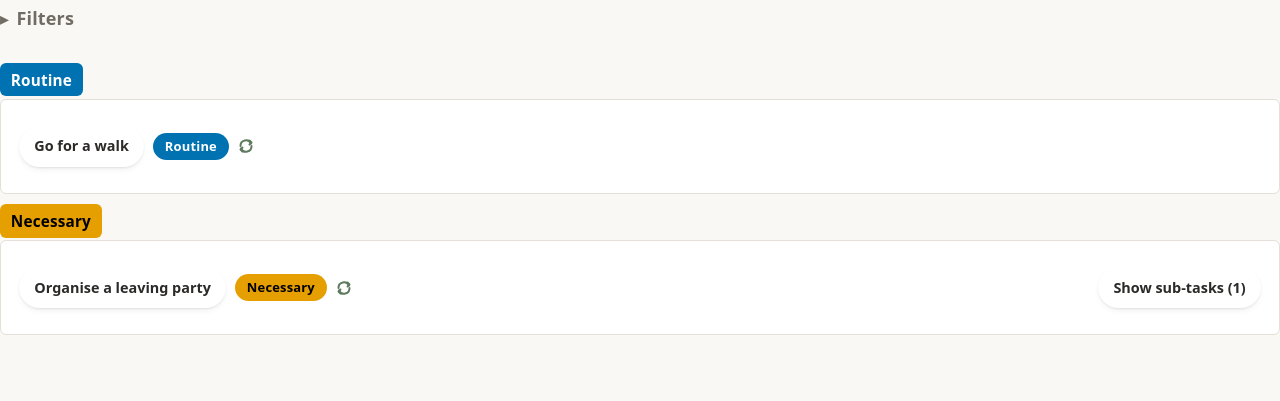
Test case: FRONTEND-033-AC-02/AC-03/AC-04: bulk fetch replaces the per-activity fan-out › AC-04: groups the flat sub-task list by activityId, including an empty array for an activity with none
The width and height of the screenshot is (1280, 401).
Step 1. Click the button "Show sub-tasks (1)" → coordinates (1180, 288), box x1=1098 y1=268 x2=1261 y2=308
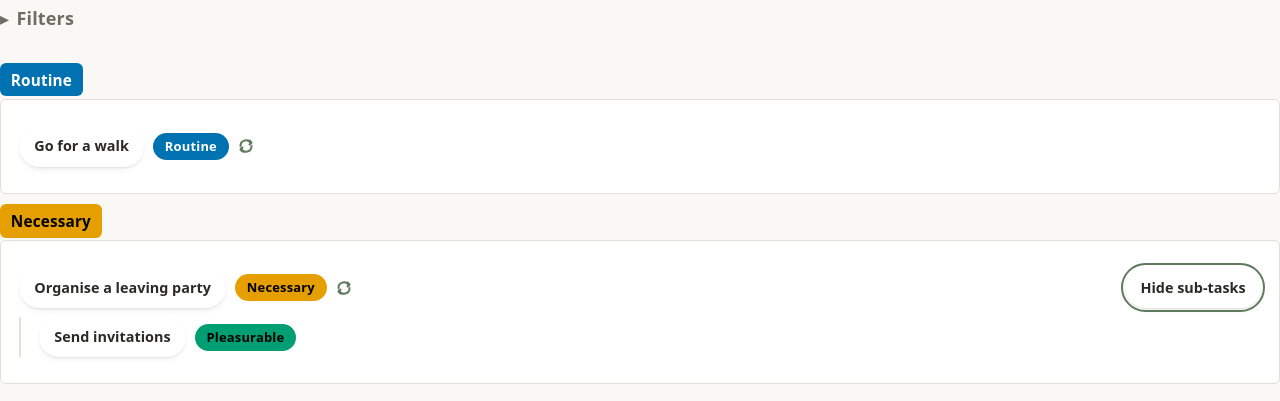
Expected: the button "Go for a walk" is shown, x1=19 y1=126 x2=144 y2=166
Result: the button "Send invitations" is shown at x1=39 y1=317 x2=186 y2=357
